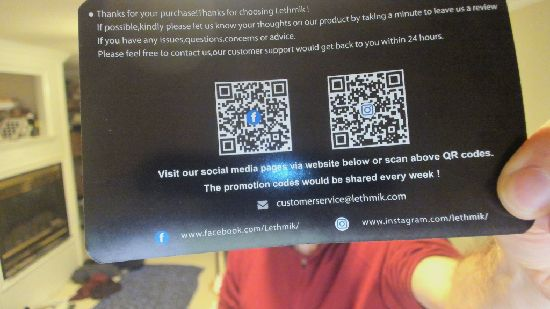QR_CODE: (317, 65, 413, 152), (209, 70, 295, 160)
